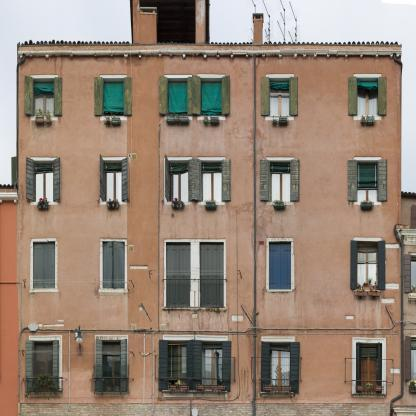Building Outline: (17, 0, 402, 416)
Facade: (17, 0, 403, 416)
Floor: (17, 226, 402, 324), (17, 324, 402, 416), (17, 142, 402, 226)
Floor Slab: (17, 137, 402, 143), (17, 220, 402, 226), (17, 403, 402, 409), (17, 319, 402, 325)
Molding: (18, 50, 402, 60)
Top Floor: (17, 58, 402, 142)
Window: (199, 242, 224, 307), (166, 242, 191, 307), (356, 342, 382, 393), (265, 342, 291, 392), (166, 340, 191, 390), (199, 340, 223, 390), (100, 340, 122, 391), (34, 341, 56, 392), (357, 242, 379, 289), (33, 242, 55, 289), (269, 242, 291, 289), (103, 242, 125, 289), (356, 160, 379, 202), (200, 160, 223, 202), (167, 160, 190, 202), (33, 160, 55, 202), (269, 160, 291, 202), (102, 160, 124, 202), (357, 78, 379, 116), (33, 78, 55, 116), (103, 78, 125, 116), (167, 78, 189, 116), (201, 78, 223, 116), (269, 78, 291, 116)
